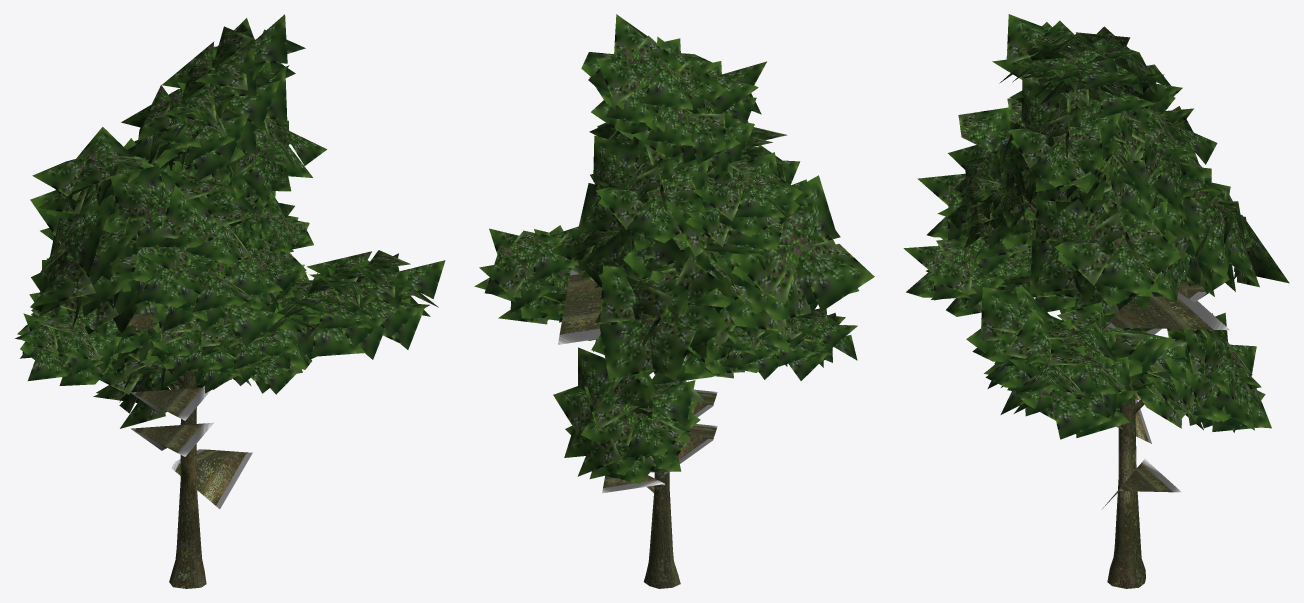
The model's file is beech_c.DAE.
3 views of the same model, side by side, from view 1: azimuth 30°, elevation 25°; view 2: azimuth 150°, elevation 25°; view 3: azimuth 270°, elevation 25° (orthographic). The views are drawn at different scales.
Parts seen in each view (by area): view 1: beech_c; view 2: beech_c; view 3: beech_c.
Boxes of the visible parts, <box> form: beech_c: <box>15,14,445,588</box>; beech_c: <box>474,14,874,588</box>; beech_c: <box>903,14,1289,588</box>.
Size of what is drawn, in the model's own units: 605 by 476 by 795.
